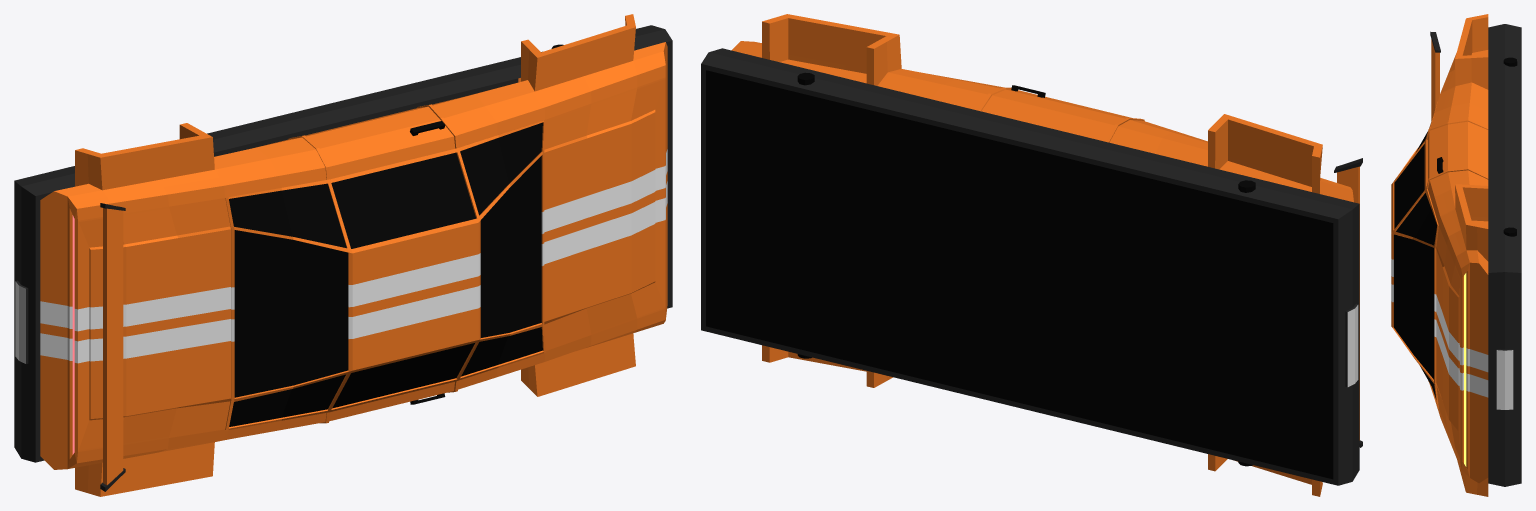
Rendered from chassis.glb.
3 renders of one model, left to right at view 1: azimuth 30°, elevation 25°; view 2: azimuth 150°, elevation 25°; view 3: azimuth 270°, elevation 25°, orthographic. The views are drawn at different scales.
Visible parts, largest first — view 1: Carro2; view 2: Carro2; view 3: Carro2.
Boxes of the visible parts, left/top/right/bottom form: Carro2: left=14, top=14, right=672, bottom=496; Carro2: left=701, top=14, right=1362, bottom=496; Carro2: left=1391, top=14, right=1521, bottom=496.
Bounding box in the file's own units: 2.66 × 1.33 × 0.5868.
